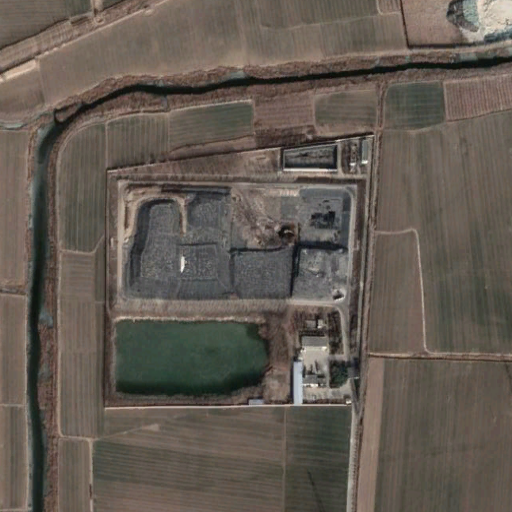lf: (117, 178, 357, 305)
